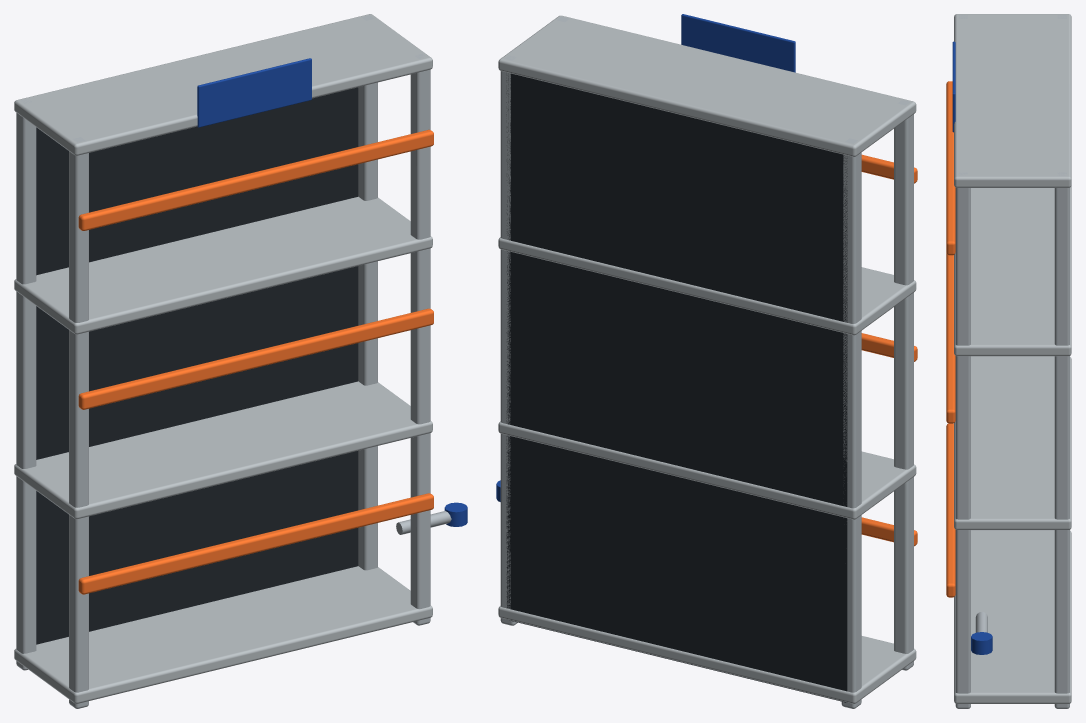
The model's file is water-rack.glb.
3 renders of one model, left to right at view 1: azimuth 30°, elevation 25°; view 2: azimuth 150°, elevation 25°; view 3: azimuth 270°, elevation 25°, orthographic. The views are drawn at different scales.
Visible parts, largest first — view 1: water-rack-panel-grey, water-rack-dark-polymer, water-rack-aluminium, latch_bar-safety-orange, water-rack-nasa-blue; view 2: water-rack-dark-polymer, water-rack-panel-grey, water-rack-aluminium, water-rack-nasa-blue, latch_bar-safety-orange; view 3: water-rack-panel-grey, water-rack-aluminium, latch_bar-safety-orange, tap-nasa-blue, water-rack-nasa-blue, tap-aluminium.
Boxes of the visible parts, box(x1,y1,x2,y2) form: water-rack-panel-grey: box(14, 14, 432, 703); water-rack-dark-polymer: box(36, 87, 358, 644); water-rack-aluminium: box(16, 15, 430, 708); latch_bar-safety-orange: box(78, 129, 433, 594); water-rack-nasa-blue: box(197, 58, 311, 127); water-rack-dark-polymer: box(506, 73, 847, 702); water-rack-panel-grey: box(498, 15, 916, 703); water-rack-aluminium: box(500, 16, 913, 708); water-rack-nasa-blue: box(681, 14, 795, 72); latch_bar-safety-orange: box(861, 154, 917, 546); water-rack-panel-grey: box(954, 14, 1071, 703); water-rack-aluminium: box(955, 15, 1069, 708); latch_bar-safety-orange: box(946, 81, 955, 597); tap-nasa-blue: box(971, 632, 992, 654); water-rack-nasa-blue: box(952, 41, 955, 132); tap-aluminium: box(975, 612, 987, 632).
Size of the model in its own units: 1.43 by 2 by 0.405.
